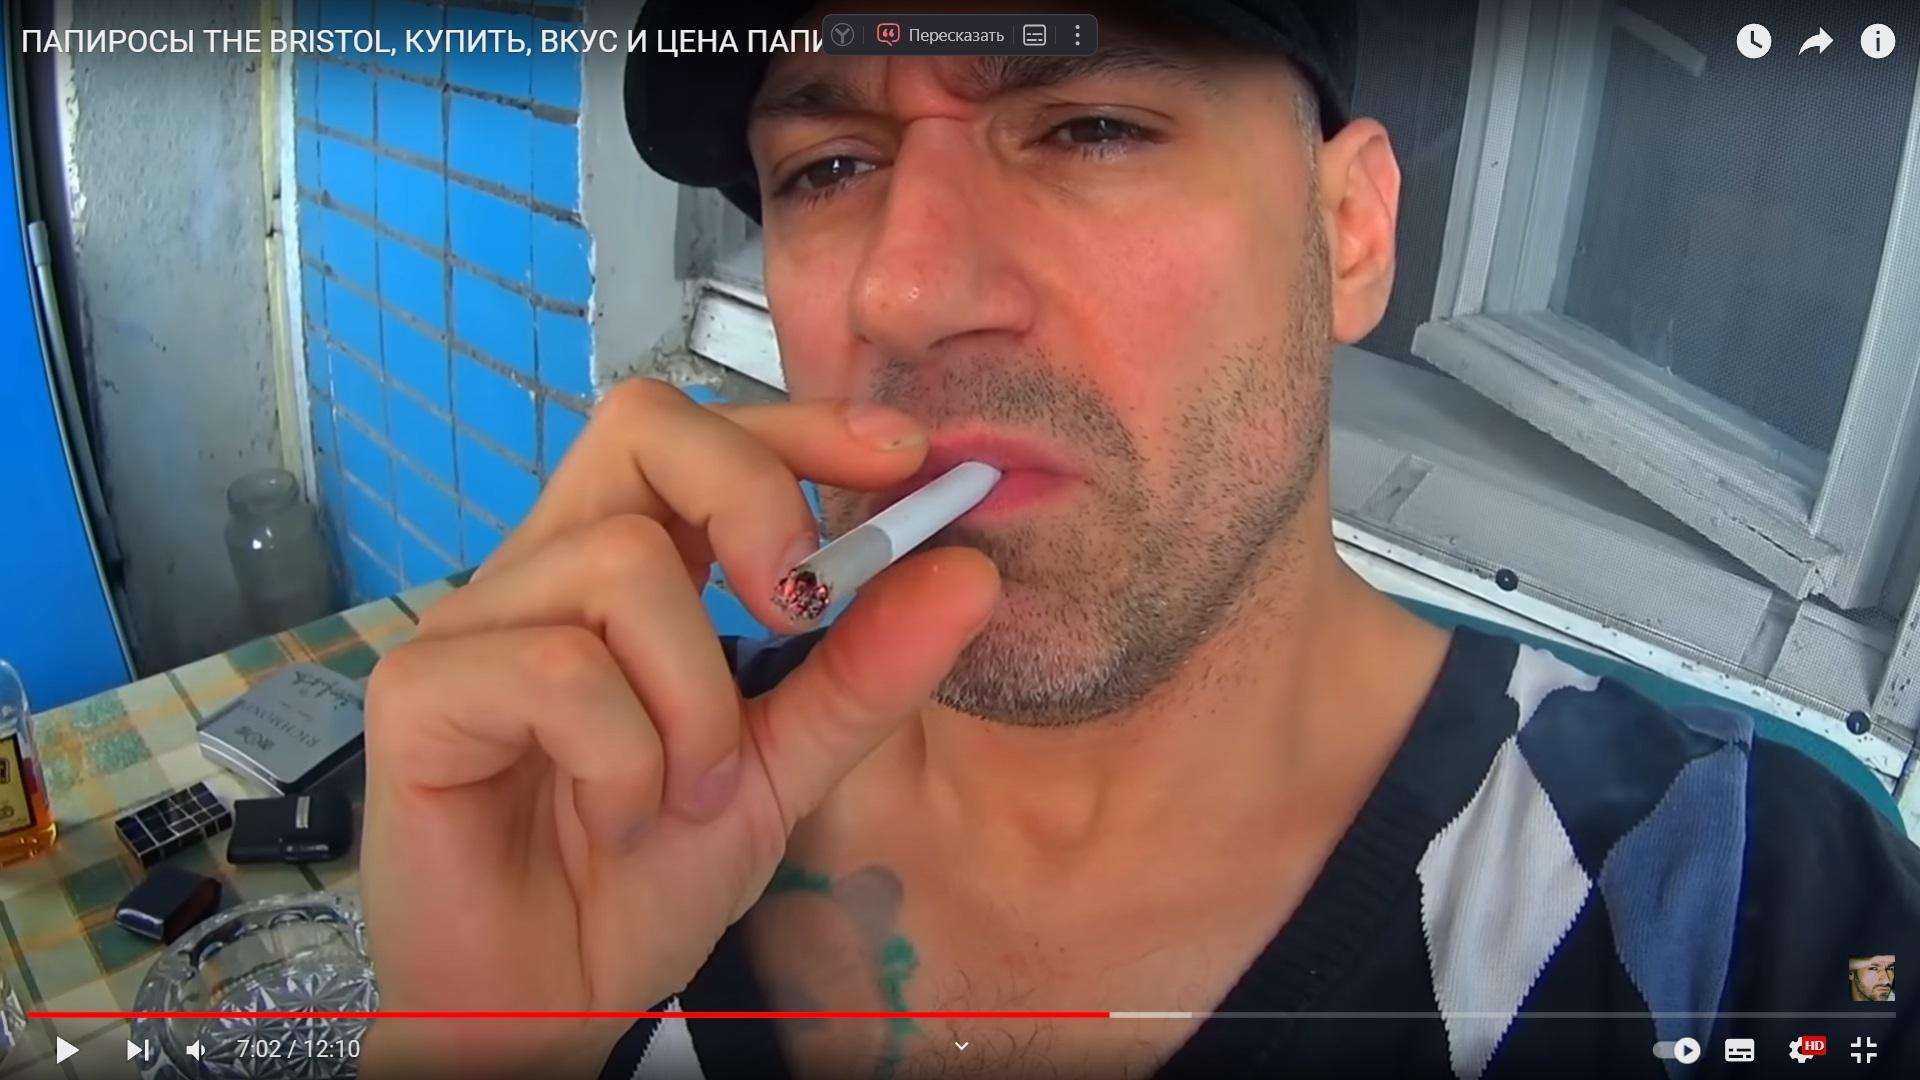cigarette: (774, 462, 1001, 622)
